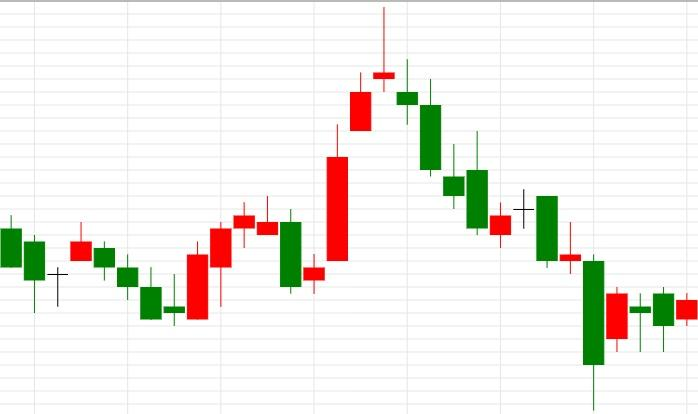evening_star_fall: (304, 6, 418, 294)
